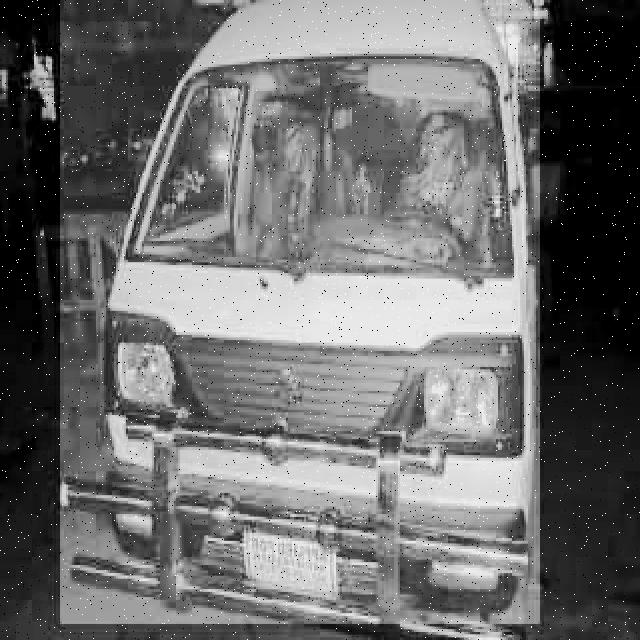LCV: (58, 0, 540, 627)
